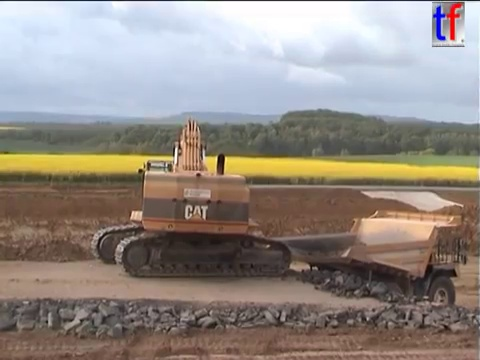excavator: (88, 114, 293, 280)
truck: (262, 208, 468, 323)
